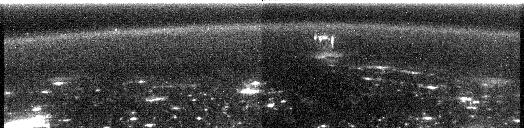positive: (310, 33, 336, 50)
